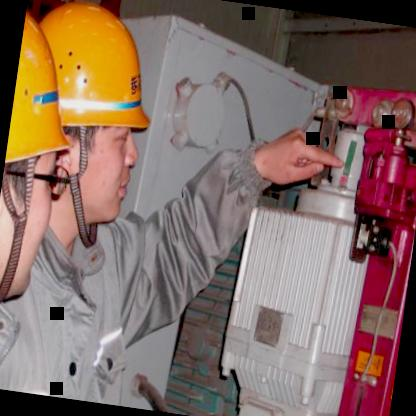helmet: (0, 0, 170, 258), (0, 0, 103, 327)
